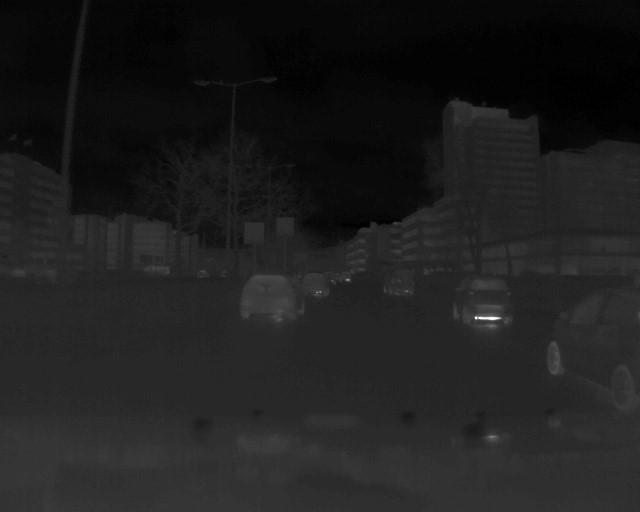car: (544, 284, 640, 415), (448, 274, 518, 330), (241, 273, 308, 323), (300, 272, 331, 301), (386, 269, 416, 298)
